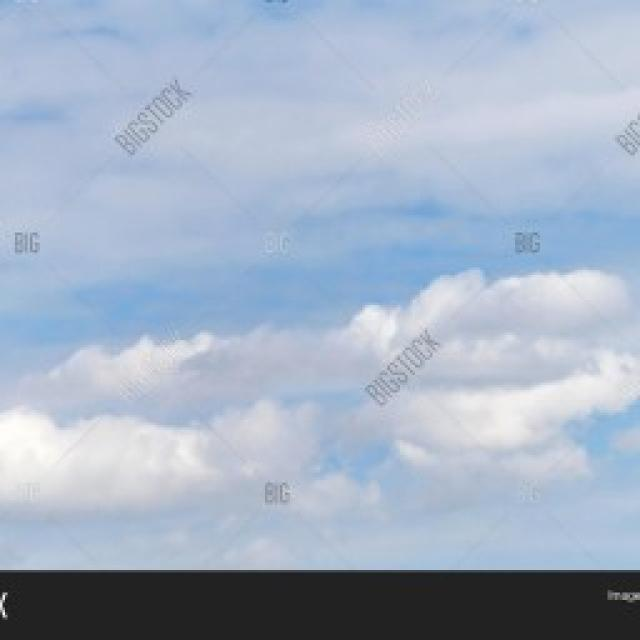Cs: (1, 263, 635, 548)
